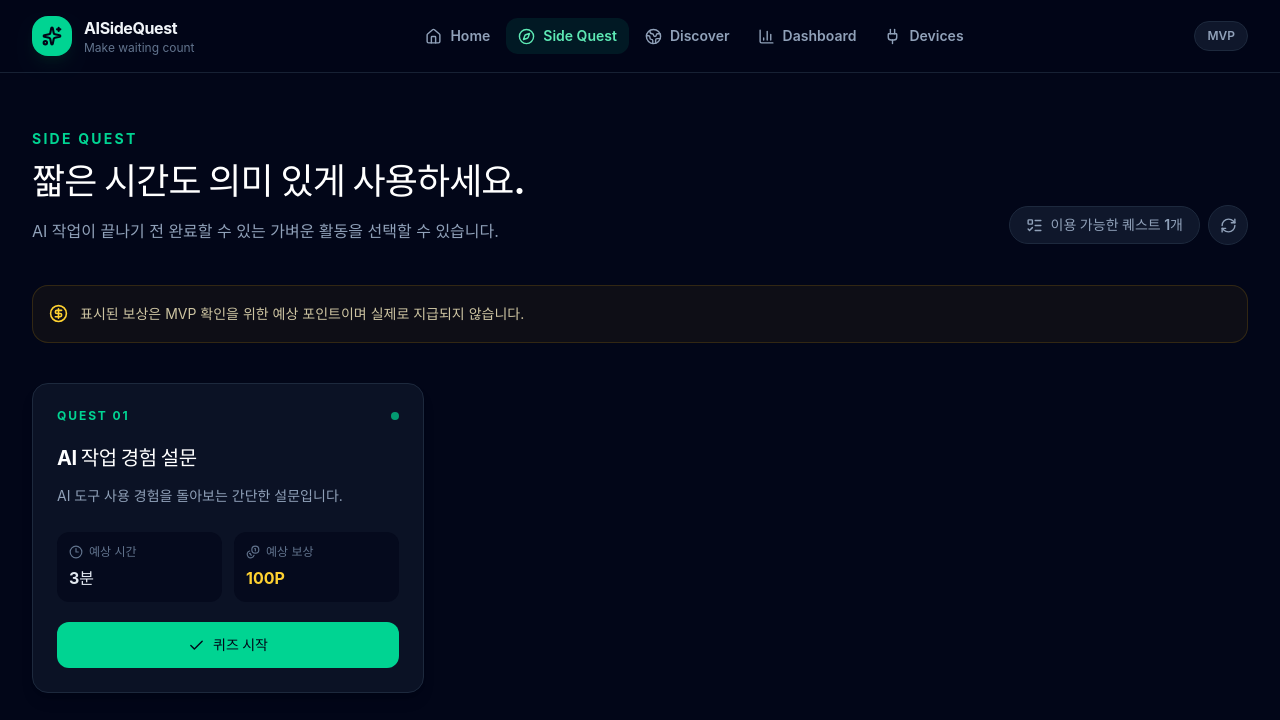
Test: AISideQuest API session flow › keeps the previous quest list visible when a refresh fails
This screenshot has width=1280, height=720.
expect the heading "AI 작업 경험 설문" is shown: met, box [57,446,197,470]
Click the button named "퀘스트 목록 새로고침".
click(1228, 225)  # box [1208,205,1248,245]
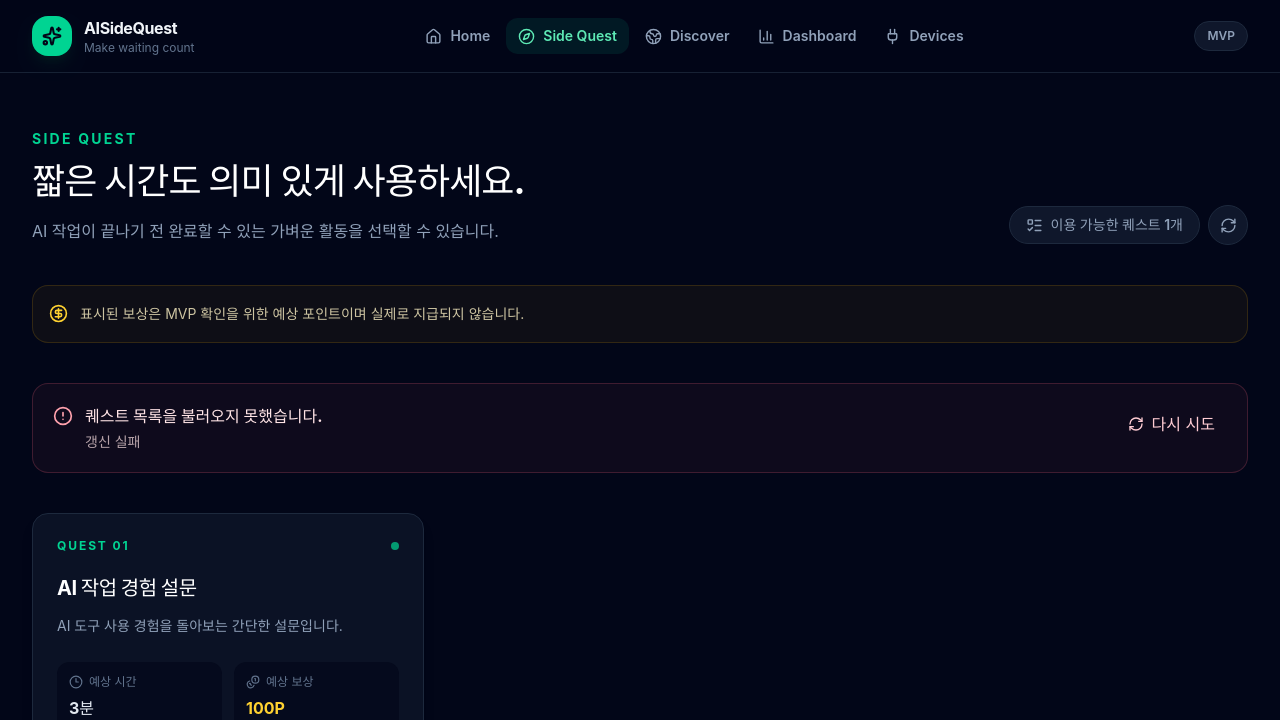
expect the heading "AI 작업 경험 설문" is shown: met, box [57,576,197,600]
expect the message shows "갱신 실패": met, box [85,433,140,450]
